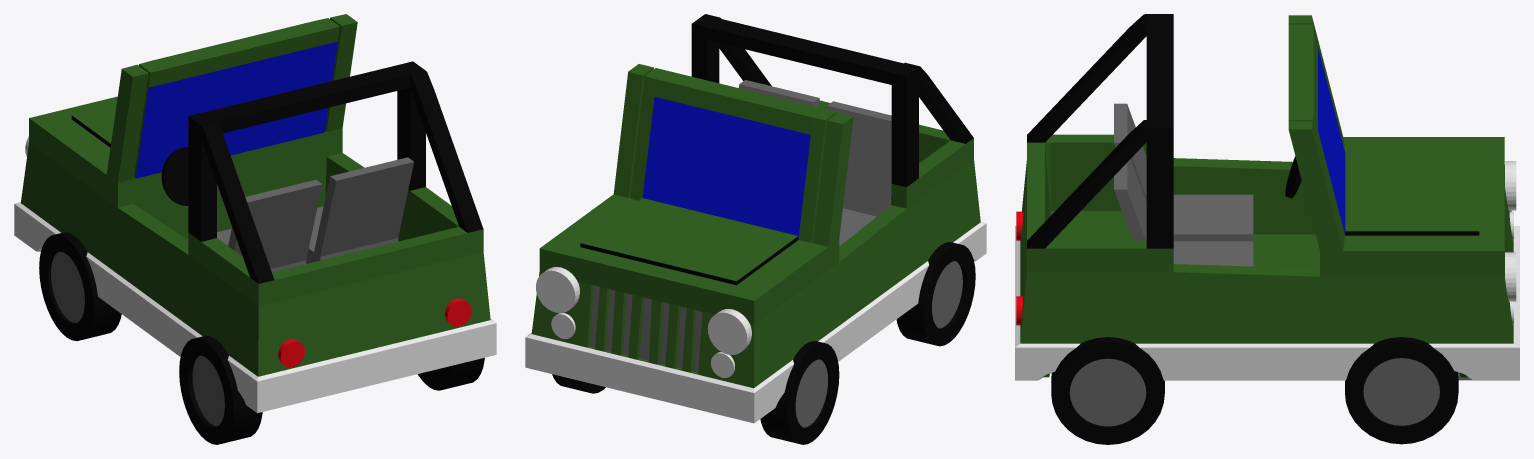
File: Jeep.fbx
3 renders of one model, left to right at view 1: azimuth 30°, elevation 25°; view 2: azimuth 150°, elevation 25°; view 3: azimuth 270°, elevation 25°, orthographic. The views are drawn at different scales.
Parts seen in each view (by area): view 1: Cube; view 2: Cube; view 3: Cube.
Part boxes in pixels (x1,y1,x2,y2): Cube: (14,14,496,444); Cube: (525,14,986,444); Cube: (1015,14,1519,444).
Bounding box in the file's own units: 1217 × 1380 × 2036.
